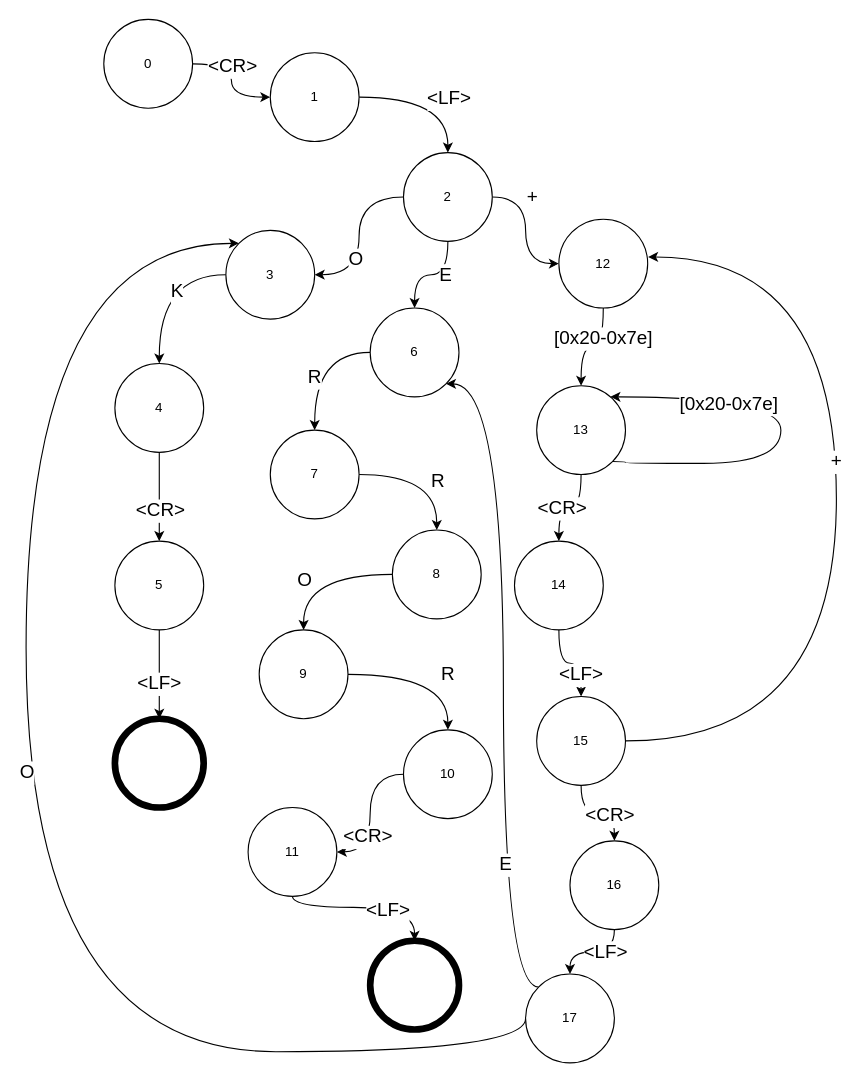
The diagram is 860 pixels wide and 1082 high, and some of its shapes have lost their labels. The centre of each missing label's shape, as x and y in pixels:
"ERROR" belongs at point (414, 984).
"NO ERROR" belongs at point (158, 762).
